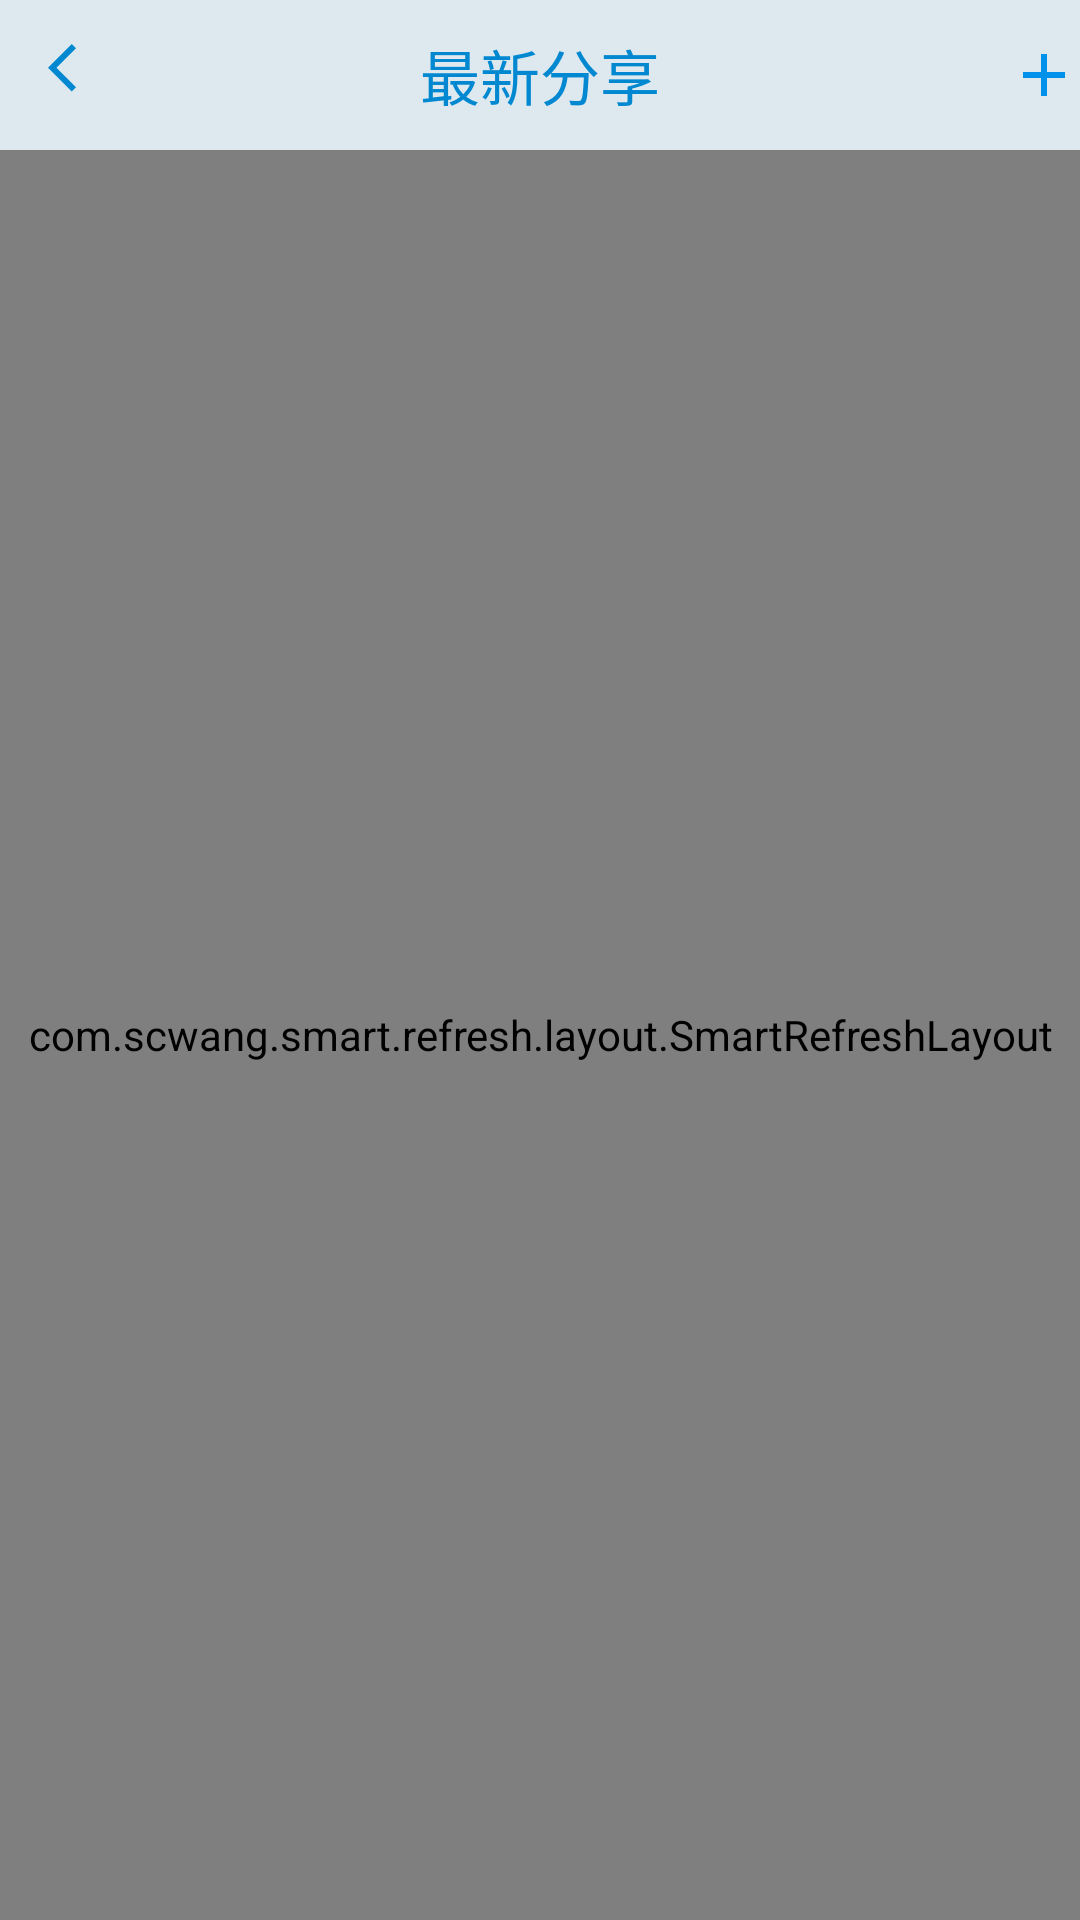

Named icons in this screenshot (1080x1920) and their bounding boxes, bbox=[x1, y1, x2, y2]:
add: bbox=[1023, 54, 1065, 96]
arrow back: bbox=[48, 44, 76, 92]
